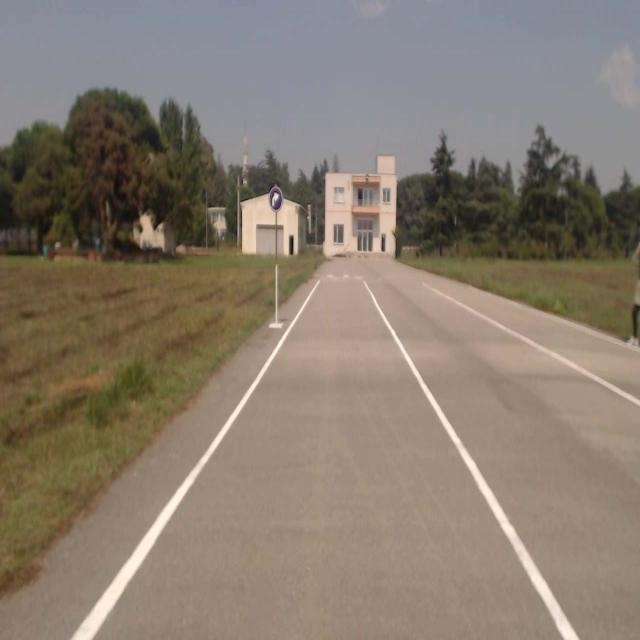sag: (268, 186, 282, 210)
